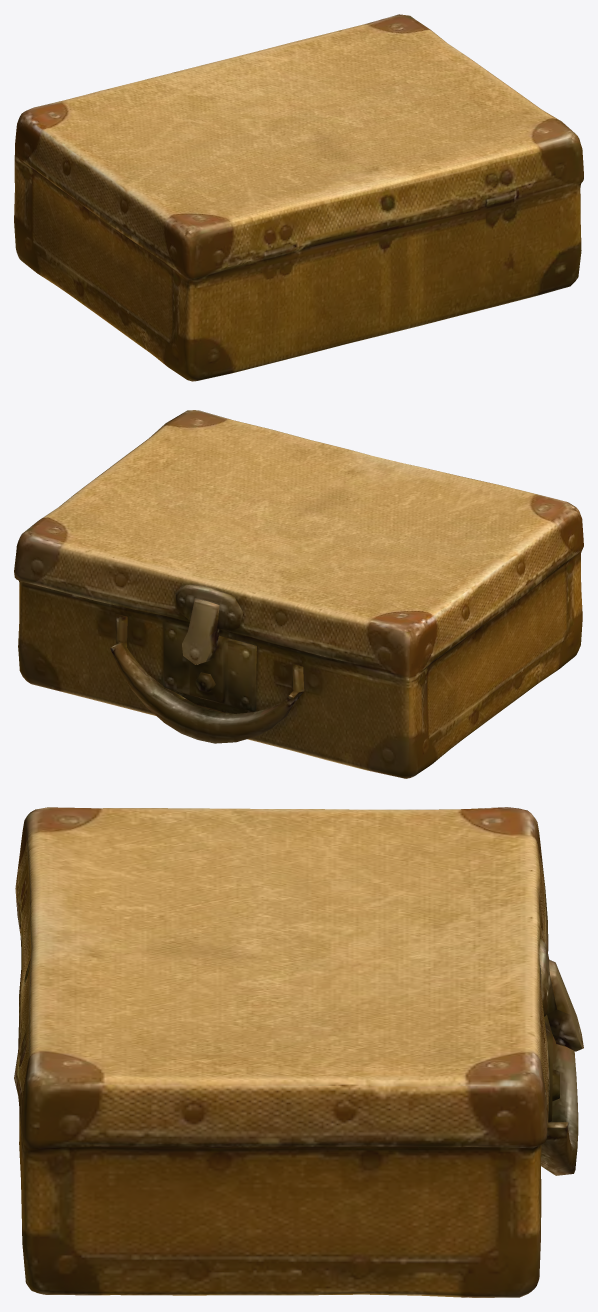
File: suitC.glb
The picture shows the model from 3 angles, top to bottom: view 1: azimuth 30°, elevation 25°; view 2: azimuth 150°, elevation 25°; view 3: azimuth 270°, elevation 25°; orthographic projection. The views are drawn at different scales.
Parts seen in each view (by area): view 1: Suitcase_LP; view 2: Suitcase_LP; view 3: Suitcase_LP.
Boxes of the visible parts, x1,y1,x2,y2 form: Suitcase_LP: (14,14,583,381); Suitcase_LP: (14,410,583,778); Suitcase_LP: (14,807,583,1297).
Size of the model in its own units: 0.5122 by 0.1892 by 0.4244.
Materials: 1 (1 with a texture image).
